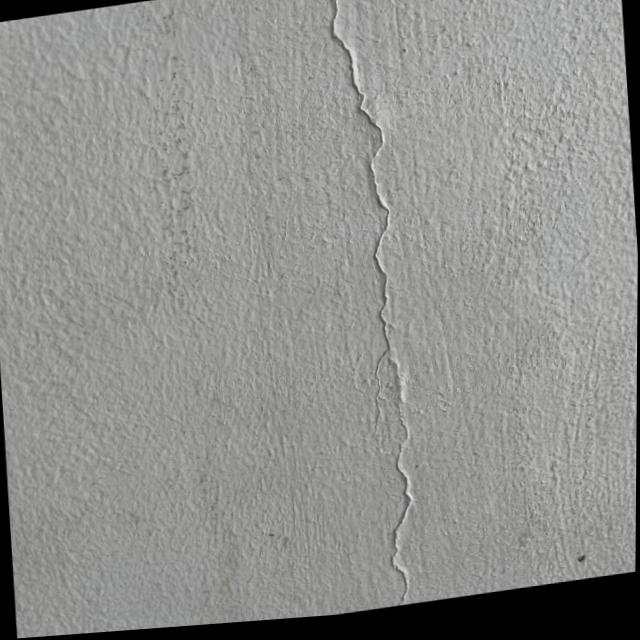Crack: (297, 0, 450, 618)
